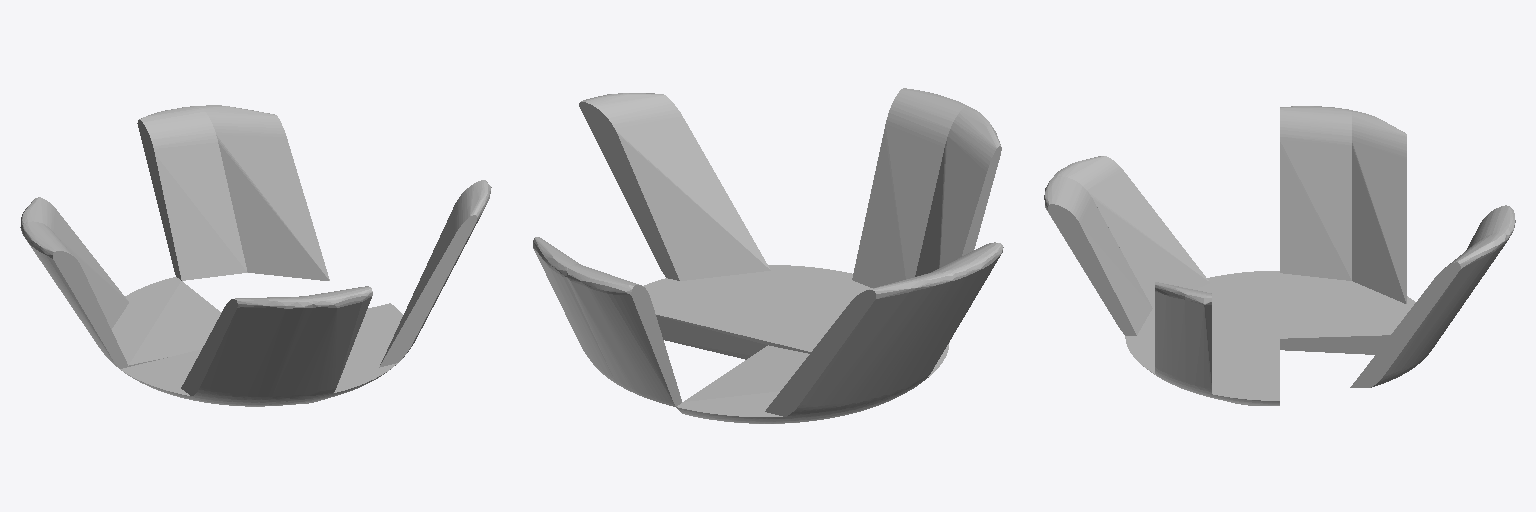
The robot description file, URDF, robot "root":
<robot name="root">
  <link name="link_coacd_convex_piece_0">
    <inertial>
      <origin xyz="0 0 0" rpy="0 0 0"/>
      <inertia ixx="6.67E-09" ixy="2.27E-09" ixz="-2.82E-09" iyy="6.64E-09" iyz="2.84E-09" izz="7.04E-09"/>
    </inertial>
    <visual>
      <origin xyz="0 0 0" rpy="0 0 0"/>
      <geometry>
        <mesh filename="coacd_convex_piece_0.obj" scale="1.0000E+00 1.0000E+00 1.0000E+00"/>
      </geometry>
      <material name="">
        <color rgba="7.50E-01 7.50E-01 7.50E-01 1"/>
      </material>
    </visual>
    <collision>
      <origin xyz="0 0 0" rpy="0 0 0"/>
      <geometry>
        <mesh filename="coacd_convex_piece_0.obj" scale="1.0000E+00 1.0000E+00 1.0000E+00"/>
      </geometry>
    </collision>
  </link>
  <link name="link_coacd_convex_piece_1">
    <inertial>
      <origin xyz="0 0 0" rpy="0 0 0"/>
      <inertia ixx="1.34E-08" ixy="1.81E-11" ixz="9.36E-11" iyy="1.34E-08" iyz="-5.63E-09" izz="1.32E-08"/>
    </inertial>
    <visual>
      <origin xyz="0 0 0" rpy="0 0 0"/>
      <geometry>
        <mesh filename="coacd_convex_piece_1.obj" scale="1.0000E+00 1.0000E+00 1.0000E+00"/>
      </geometry>
      <material name="">
        <color rgba="7.50E-01 7.50E-01 7.50E-01 1"/>
      </material>
    </visual>
    <collision>
      <origin xyz="0 0 0" rpy="0 0 0"/>
      <geometry>
        <mesh filename="coacd_convex_piece_1.obj" scale="1.0000E+00 1.0000E+00 1.0000E+00"/>
      </geometry>
    </collision>
  </link>
  <joint name="link_coacd_convex_piece_1_joint" type="fixed">
    <origin xyz="0 0 0" rpy="0 0 0"/>
    <parent link="link_coacd_convex_piece_0"/>
    <child link="link_coacd_convex_piece_1"/>
  </joint>
  <link name="link_coacd_convex_piece_2">
    <inertial>
      <origin xyz="0 0 0" rpy="0 0 0"/>
      <inertia ixx="6.69E-09" ixy="-2.24E-09" ixz="2.78E-09" iyy="6.58E-09" iyz="2.85E-09" izz="6.95E-09"/>
    </inertial>
    <visual>
      <origin xyz="0 0 0" rpy="0 0 0"/>
      <geometry>
        <mesh filename="coacd_convex_piece_2.obj" scale="1.0000E+00 1.0000E+00 1.0000E+00"/>
      </geometry>
      <material name="">
        <color rgba="7.50E-01 7.50E-01 7.50E-01 1"/>
      </material>
    </visual>
    <collision>
      <origin xyz="0 0 0" rpy="0 0 0"/>
      <geometry>
        <mesh filename="coacd_convex_piece_2.obj" scale="1.0000E+00 1.0000E+00 1.0000E+00"/>
      </geometry>
    </collision>
  </link>
  <joint name="link_coacd_convex_piece_2_joint" type="fixed">
    <origin xyz="0 0 0" rpy="0 0 0"/>
    <parent link="link_coacd_convex_piece_1"/>
    <child link="link_coacd_convex_piece_2"/>
  </joint>
  <link name="link_coacd_convex_piece_3">
    <inertial>
      <origin xyz="0 0 0" rpy="0 0 0"/>
      <inertia ixx="1.52E-08" ixy="5.69E-09" ixz="-3.04E-10" iyy="3.69E-09" iyz="4.07E-10" izz="1.78E-08"/>
    </inertial>
    <visual>
      <origin xyz="0 0 0" rpy="0 0 0"/>
      <geometry>
        <mesh filename="coacd_convex_piece_3.obj" scale="1.0000E+00 1.0000E+00 1.0000E+00"/>
      </geometry>
      <material name="">
        <color rgba="7.50E-01 7.50E-01 7.50E-01 1"/>
      </material>
    </visual>
    <collision>
      <origin xyz="0 0 0" rpy="0 0 0"/>
      <geometry>
        <mesh filename="coacd_convex_piece_3.obj" scale="1.0000E+00 1.0000E+00 1.0000E+00"/>
      </geometry>
    </collision>
  </link>
  <joint name="link_coacd_convex_piece_3_joint" type="fixed">
    <origin xyz="0 0 0" rpy="0 0 0"/>
    <parent link="link_coacd_convex_piece_2"/>
    <child link="link_coacd_convex_piece_3"/>
  </joint>
  <link name="link_coacd_convex_piece_4">
    <inertial>
      <origin xyz="0 0 0" rpy="0 0 0"/>
      <inertia ixx="1.24E-08" ixy="-1.56E-08" ixz="-6.77E-09" iyy="3.85E-08" iyz="-3.48E-09" izz="4.53E-08"/>
    </inertial>
    <visual>
      <origin xyz="0 0 0" rpy="0 0 0"/>
      <geometry>
        <mesh filename="coacd_convex_piece_4.obj" scale="1.0000E+00 1.0000E+00 1.0000E+00"/>
      </geometry>
      <material name="">
        <color rgba="7.50E-01 7.50E-01 7.50E-01 1"/>
      </material>
    </visual>
    <collision>
      <origin xyz="0 0 0" rpy="0 0 0"/>
      <geometry>
        <mesh filename="coacd_convex_piece_4.obj" scale="1.0000E+00 1.0000E+00 1.0000E+00"/>
      </geometry>
    </collision>
  </link>
  <joint name="link_coacd_convex_piece_4_joint" type="fixed">
    <origin xyz="0 0 0" rpy="0 0 0"/>
    <parent link="link_coacd_convex_piece_3"/>
    <child link="link_coacd_convex_piece_4"/>
  </joint>
  <link name="link_coacd_convex_piece_5">
    <inertial>
      <origin xyz="0 0 0" rpy="0 0 0"/>
      <inertia ixx="3.90E-08" ixy="1.57E-08" ixz="3.47E-09" iyy="1.23E-08" iyz="-6.76E-09" izz="4.57E-08"/>
    </inertial>
    <visual>
      <origin xyz="0 0 0" rpy="0 0 0"/>
      <geometry>
        <mesh filename="coacd_convex_piece_5.obj" scale="1.0000E+00 1.0000E+00 1.0000E+00"/>
      </geometry>
      <material name="">
        <color rgba="7.50E-01 7.50E-01 7.50E-01 1"/>
      </material>
    </visual>
    <collision>
      <origin xyz="0 0 0" rpy="0 0 0"/>
      <geometry>
        <mesh filename="coacd_convex_piece_5.obj" scale="1.0000E+00 1.0000E+00 1.0000E+00"/>
      </geometry>
    </collision>
  </link>
  <joint name="link_coacd_convex_piece_5_joint" type="fixed">
    <origin xyz="0 0 0" rpy="0 0 0"/>
    <parent link="link_coacd_convex_piece_4"/>
    <child link="link_coacd_convex_piece_5"/>
  </joint>
  <link name="link_coacd_convex_piece_6">
    <inertial>
      <origin xyz="0 0 0" rpy="0 0 0"/>
      <inertia ixx="1.25E-08" ixy="-1.58E-08" ixz="6.76E-09" iyy="3.94E-08" iyz="3.51E-09" izz="4.61E-08"/>
    </inertial>
    <visual>
      <origin xyz="0 0 0" rpy="0 0 0"/>
      <geometry>
        <mesh filename="coacd_convex_piece_6.obj" scale="1.0000E+00 1.0000E+00 1.0000E+00"/>
      </geometry>
      <material name="">
        <color rgba="7.50E-01 7.50E-01 7.50E-01 1"/>
      </material>
    </visual>
    <collision>
      <origin xyz="0 0 0" rpy="0 0 0"/>
      <geometry>
        <mesh filename="coacd_convex_piece_6.obj" scale="1.0000E+00 1.0000E+00 1.0000E+00"/>
      </geometry>
    </collision>
  </link>
  <joint name="link_coacd_convex_piece_6_joint" type="fixed">
    <origin xyz="0 0 0" rpy="0 0 0"/>
    <parent link="link_coacd_convex_piece_5"/>
    <child link="link_coacd_convex_piece_6"/>
  </joint>
  <link name="link_coacd_convex_piece_7">
    <inertial>
      <origin xyz="0 0 0" rpy="0 0 0"/>
      <inertia ixx="1.86E-09" ixy="3.39E-09" ixz="2.25E-09" iyy="1.82E-08" iyz="-3.66E-10" izz="1.81E-08"/>
    </inertial>
    <visual>
      <origin xyz="0 0 0" rpy="0 0 0"/>
      <geometry>
        <mesh filename="coacd_convex_piece_7.obj" scale="1.0000E+00 1.0000E+00 1.0000E+00"/>
      </geometry>
      <material name="">
        <color rgba="7.50E-01 7.50E-01 7.50E-01 1"/>
      </material>
    </visual>
    <collision>
      <origin xyz="0 0 0" rpy="0 0 0"/>
      <geometry>
        <mesh filename="coacd_convex_piece_7.obj" scale="1.0000E+00 1.0000E+00 1.0000E+00"/>
      </geometry>
    </collision>
  </link>
  <joint name="link_coacd_convex_piece_7_joint" type="fixed">
    <origin xyz="0 0 0" rpy="0 0 0"/>
    <parent link="link_coacd_convex_piece_6"/>
    <child link="link_coacd_convex_piece_7"/>
  </joint>
  <link name="link_coacd_convex_piece_8">
    <inertial>
      <origin xyz="0 0 0" rpy="0 0 0"/>
      <inertia ixx="1.22E-08" ixy="-6.69E-09" ixz="5.06E-10" iyy="5.14E-09" iyz="1.38E-09" izz="1.57E-08"/>
    </inertial>
    <visual>
      <origin xyz="0 0 0" rpy="0 0 0"/>
      <geometry>
        <mesh filename="coacd_convex_piece_8.obj" scale="1.0000E+00 1.0000E+00 1.0000E+00"/>
      </geometry>
      <material name="">
        <color rgba="7.50E-01 7.50E-01 7.50E-01 1"/>
      </material>
    </visual>
    <collision>
      <origin xyz="0 0 0" rpy="0 0 0"/>
      <geometry>
        <mesh filename="coacd_convex_piece_8.obj" scale="1.0000E+00 1.0000E+00 1.0000E+00"/>
      </geometry>
    </collision>
  </link>
  <joint name="link_coacd_convex_piece_8_joint" type="fixed">
    <origin xyz="0 0 0" rpy="0 0 0"/>
    <parent link="link_coacd_convex_piece_7"/>
    <child link="link_coacd_convex_piece_8"/>
  </joint>
  <link name="link_coacd_convex_piece_9">
    <inertial>
      <origin xyz="0 0 0" rpy="0 0 0"/>
      <inertia ixx="1.43E-08" ixy="5.74E-09" ixz="-2.36E-09" iyy="5.59E-09" iyz="4.75E-09" izz="1.62E-08"/>
    </inertial>
    <visual>
      <origin xyz="0 0 0" rpy="0 0 0"/>
      <geometry>
        <mesh filename="coacd_convex_piece_9.obj" scale="1.0000E+00 1.0000E+00 1.0000E+00"/>
      </geometry>
      <material name="">
        <color rgba="7.50E-01 7.50E-01 7.50E-01 1"/>
      </material>
    </visual>
    <collision>
      <origin xyz="0 0 0" rpy="0 0 0"/>
      <geometry>
        <mesh filename="coacd_convex_piece_9.obj" scale="1.0000E+00 1.0000E+00 1.0000E+00"/>
      </geometry>
    </collision>
  </link>
  <joint name="link_coacd_convex_piece_9_joint" type="fixed">
    <origin xyz="0 0 0" rpy="0 0 0"/>
    <parent link="link_coacd_convex_piece_8"/>
    <child link="link_coacd_convex_piece_9"/>
  </joint>
  <link name="link_coacd_convex_piece_10">
    <inertial>
      <origin xyz="0 0 0" rpy="0 0 0"/>
      <inertia ixx="1.19E-08" ixy="-6.49E-09" ixz="-5.13E-10" iyy="4.93E-09" iyz="-1.34E-09" izz="1.53E-08"/>
    </inertial>
    <visual>
      <origin xyz="0 0 0" rpy="0 0 0"/>
      <geometry>
        <mesh filename="coacd_convex_piece_10.obj" scale="1.0000E+00 1.0000E+00 1.0000E+00"/>
      </geometry>
      <material name="">
        <color rgba="7.50E-01 7.50E-01 7.50E-01 1"/>
      </material>
    </visual>
    <collision>
      <origin xyz="0 0 0" rpy="0 0 0"/>
      <geometry>
        <mesh filename="coacd_convex_piece_10.obj" scale="1.0000E+00 1.0000E+00 1.0000E+00"/>
      </geometry>
    </collision>
  </link>
  <joint name="link_coacd_convex_piece_10_joint" type="fixed">
    <origin xyz="0 0 0" rpy="0 0 0"/>
    <parent link="link_coacd_convex_piece_9"/>
    <child link="link_coacd_convex_piece_10"/>
  </joint>
  <link name="link_coacd_convex_piece_11">
    <inertial>
      <origin xyz="0 0 0" rpy="0 0 0"/>
      <inertia ixx="4.98E-09" ixy="6.42E-09" ixz="-1.32E-09" iyy="1.16E-08" iyz="5.01E-10" izz="1.50E-08"/>
    </inertial>
    <visual>
      <origin xyz="0 0 0" rpy="0 0 0"/>
      <geometry>
        <mesh filename="coacd_convex_piece_11.obj" scale="1.0000E+00 1.0000E+00 1.0000E+00"/>
      </geometry>
      <material name="">
        <color rgba="7.50E-01 7.50E-01 7.50E-01 1"/>
      </material>
    </visual>
    <collision>
      <origin xyz="0 0 0" rpy="0 0 0"/>
      <geometry>
        <mesh filename="coacd_convex_piece_11.obj" scale="1.0000E+00 1.0000E+00 1.0000E+00"/>
      </geometry>
    </collision>
  </link>
  <joint name="link_coacd_convex_piece_11_joint" type="fixed">
    <origin xyz="0 0 0" rpy="0 0 0"/>
    <parent link="link_coacd_convex_piece_10"/>
    <child link="link_coacd_convex_piece_11"/>
  </joint>
  <link name="link_coacd_convex_piece_12">
    <inertial>
      <origin xyz="0 0 0" rpy="0 0 0"/>
      <inertia ixx="1.55E-09" ixy="2.75E-09" ixz="-1.87E-09" iyy="1.62E-08" iyz="2.76E-10" izz="1.60E-08"/>
    </inertial>
    <visual>
      <origin xyz="0 0 0" rpy="0 0 0"/>
      <geometry>
        <mesh filename="coacd_convex_piece_12.obj" scale="1.0000E+00 1.0000E+00 1.0000E+00"/>
      </geometry>
      <material name="">
        <color rgba="7.50E-01 7.50E-01 7.50E-01 1"/>
      </material>
    </visual>
    <collision>
      <origin xyz="0 0 0" rpy="0 0 0"/>
      <geometry>
        <mesh filename="coacd_convex_piece_12.obj" scale="1.0000E+00 1.0000E+00 1.0000E+00"/>
      </geometry>
    </collision>
  </link>
  <joint name="link_coacd_convex_piece_12_joint" type="fixed">
    <origin xyz="0 0 0" rpy="0 0 0"/>
    <parent link="link_coacd_convex_piece_11"/>
    <child link="link_coacd_convex_piece_12"/>
  </joint>
  <link name="link_coacd_convex_piece_13">
    <inertial>
      <origin xyz="0 0 0" rpy="0 0 0"/>
      <inertia ixx="4.66E-09" ixy="5.87E-09" ixz="1.18E-09" iyy="1.01E-08" iyz="-4.83E-10" izz="1.34E-08"/>
    </inertial>
    <visual>
      <origin xyz="0 0 0" rpy="0 0 0"/>
      <geometry>
        <mesh filename="coacd_convex_piece_13.obj" scale="1.0000E+00 1.0000E+00 1.0000E+00"/>
      </geometry>
      <material name="">
        <color rgba="7.50E-01 7.50E-01 7.50E-01 1"/>
      </material>
    </visual>
    <collision>
      <origin xyz="0 0 0" rpy="0 0 0"/>
      <geometry>
        <mesh filename="coacd_convex_piece_13.obj" scale="1.0000E+00 1.0000E+00 1.0000E+00"/>
      </geometry>
    </collision>
  </link>
  <joint name="link_coacd_convex_piece_13_joint" type="fixed">
    <origin xyz="0 0 0" rpy="0 0 0"/>
    <parent link="link_coacd_convex_piece_12"/>
    <child link="link_coacd_convex_piece_13"/>
  </joint>
  <link name="link_coacd_convex_piece_14">
    <inertial>
      <origin xyz="0 0 0" rpy="0 0 0"/>
      <inertia ixx="1.67E-08" ixy="-2.84E-09" ixz="2.95E-10" iyy="1.56E-09" iyz="2.01E-09" izz="1.65E-08"/>
    </inertial>
    <visual>
      <origin xyz="0 0 0" rpy="0 0 0"/>
      <geometry>
        <mesh filename="coacd_convex_piece_14.obj" scale="1.0000E+00 1.0000E+00 1.0000E+00"/>
      </geometry>
      <material name="">
        <color rgba="7.50E-01 7.50E-01 7.50E-01 1"/>
      </material>
    </visual>
    <collision>
      <origin xyz="0 0 0" rpy="0 0 0"/>
      <geometry>
        <mesh filename="coacd_convex_piece_14.obj" scale="1.0000E+00 1.0000E+00 1.0000E+00"/>
      </geometry>
    </collision>
  </link>
  <joint name="link_coacd_convex_piece_14_joint" type="fixed">
    <origin xyz="0 0 0" rpy="0 0 0"/>
    <parent link="link_coacd_convex_piece_13"/>
    <child link="link_coacd_convex_piece_14"/>
  </joint>
  <link name="link_coacd_convex_piece_15">
    <inertial>
      <origin xyz="0 0 0" rpy="0 0 0"/>
      <inertia ixx="1.63E-08" ixy="-2.70E-09" ixz="-2.91E-10" iyy="1.46E-09" iyz="-1.97E-09" izz="1.61E-08"/>
    </inertial>
    <visual>
      <origin xyz="0 0 0" rpy="0 0 0"/>
      <geometry>
        <mesh filename="coacd_convex_piece_15.obj" scale="1.0000E+00 1.0000E+00 1.0000E+00"/>
      </geometry>
      <material name="">
        <color rgba="7.50E-01 7.50E-01 7.50E-01 1"/>
      </material>
    </visual>
    <collision>
      <origin xyz="0 0 0" rpy="0 0 0"/>
      <geometry>
        <mesh filename="coacd_convex_piece_15.obj" scale="1.0000E+00 1.0000E+00 1.0000E+00"/>
      </geometry>
    </collision>
  </link>
  <joint name="link_coacd_convex_piece_15_joint" type="fixed">
    <origin xyz="0 0 0" rpy="0 0 0"/>
    <parent link="link_coacd_convex_piece_14"/>
    <child link="link_coacd_convex_piece_15"/>
  </joint>
</robot>

--- What the picture shows (computed from the rendered views, not written in the file) ---
Views: 3 orthographic renders of the robot side by side, from view 1: azimuth 30°, elevation 25°; view 2: azimuth 150°, elevation 25°; view 3: azimuth 270°, elevation 25°.
Robot: root — 16 links, 15 joints (15 fixed); root link link_coacd_convex_piece_0; default pose: all joints at 0.
Links seen in each view (by area): view 1: link_coacd_convex_piece_10, link_coacd_convex_piece_15, link_coacd_convex_piece_8, link_coacd_convex_piece_0, link_coacd_convex_piece_14, link_coacd_convex_piece_1, link_coacd_convex_piece_11, link_coacd_convex_piece_7, link_coacd_convex_piece_13; view 2: link_coacd_convex_piece_11, link_coacd_convex_piece_1, link_coacd_convex_piece_13, link_coacd_convex_piece_14, link_coacd_convex_piece_15, link_coacd_convex_piece_8, link_coacd_convex_piece_0, link_coacd_convex_piece_7, link_coacd_convex_piece_10; view 3: link_coacd_convex_piece_7, link_coacd_convex_piece_1, link_coacd_convex_piece_13, link_coacd_convex_piece_0, link_coacd_convex_piece_8, link_coacd_convex_piece_14, link_coacd_convex_piece_10, link_coacd_convex_piece_11, link_coacd_convex_piece_15.
Link boxes in pixels (x1,y1,x2,y2): link_coacd_convex_piece_10: [200, 105, 329, 280]; link_coacd_convex_piece_15: [137, 106, 247, 280]; link_coacd_convex_piece_8: [181, 296, 312, 401]; link_coacd_convex_piece_0: [112, 277, 221, 368]; link_coacd_convex_piece_14: [269, 286, 372, 401]; link_coacd_convex_piece_1: [120, 303, 402, 406]; link_coacd_convex_piece_11: [379, 180, 491, 367]; link_coacd_convex_piece_7: [21, 221, 127, 367]; link_coacd_convex_piece_13: [20, 197, 128, 329]; link_coacd_convex_piece_11: [579, 93, 770, 280]; link_coacd_convex_piece_1: [643, 265, 949, 377]; link_coacd_convex_piece_13: [765, 271, 953, 416]; link_coacd_convex_piece_14: [852, 88, 966, 287]; link_coacd_convex_piece_15: [566, 264, 681, 406]; link_coacd_convex_piece_8: [915, 106, 1001, 276]; link_coacd_convex_piece_0: [676, 345, 925, 423]; link_coacd_convex_piece_7: [866, 242, 1003, 404]; link_coacd_convex_piece_10: [533, 237, 616, 383]; link_coacd_convex_piece_7: [1280, 106, 1351, 280]; link_coacd_convex_piece_1: [1125, 271, 1279, 405]; link_coacd_convex_piece_13: [1352, 110, 1406, 303]; link_coacd_convex_piece_0: [1280, 273, 1415, 354]; link_coacd_convex_piece_8: [1054, 156, 1209, 307]; link_coacd_convex_piece_14: [1044, 176, 1152, 335]; link_coacd_convex_piece_10: [1350, 233, 1507, 387]; link_coacd_convex_piece_11: [1155, 282, 1211, 393]; link_coacd_convex_piece_15: [1424, 205, 1515, 358].
Size in the robot's own frame: 0.1946 by 0.1991 by 0.0722 metres.
Meshes: 16 distinct files referenced, 9 mesh visuals loaded (9 OBJ); not drawn: 7 (reference not matched to a file when rendering).